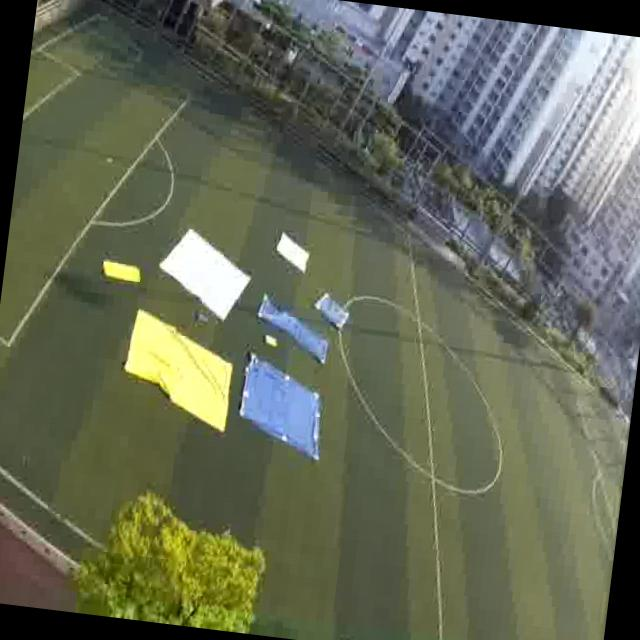danger: (235, 363, 326, 455), (312, 290, 350, 330), (259, 300, 300, 332)
safety: (164, 236, 250, 312), (274, 232, 314, 274)
warning: (128, 322, 229, 412), (104, 260, 136, 280)
